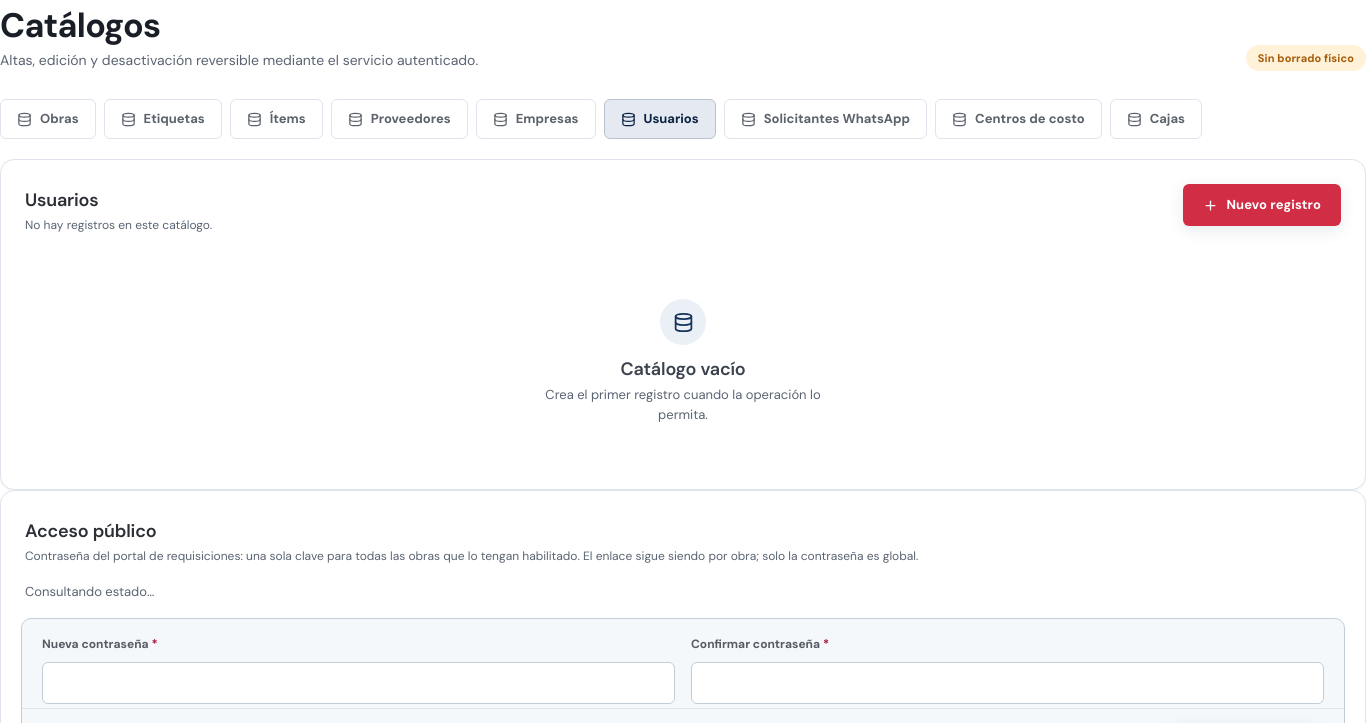
Test: ConnectedCatalogAdmin › RF-004: pestaña de Usuarios › requires selecting at least one role before creating a user
Click the button "Nuevo registro".
click(1262, 206)  # box [1183,184,1341,226]
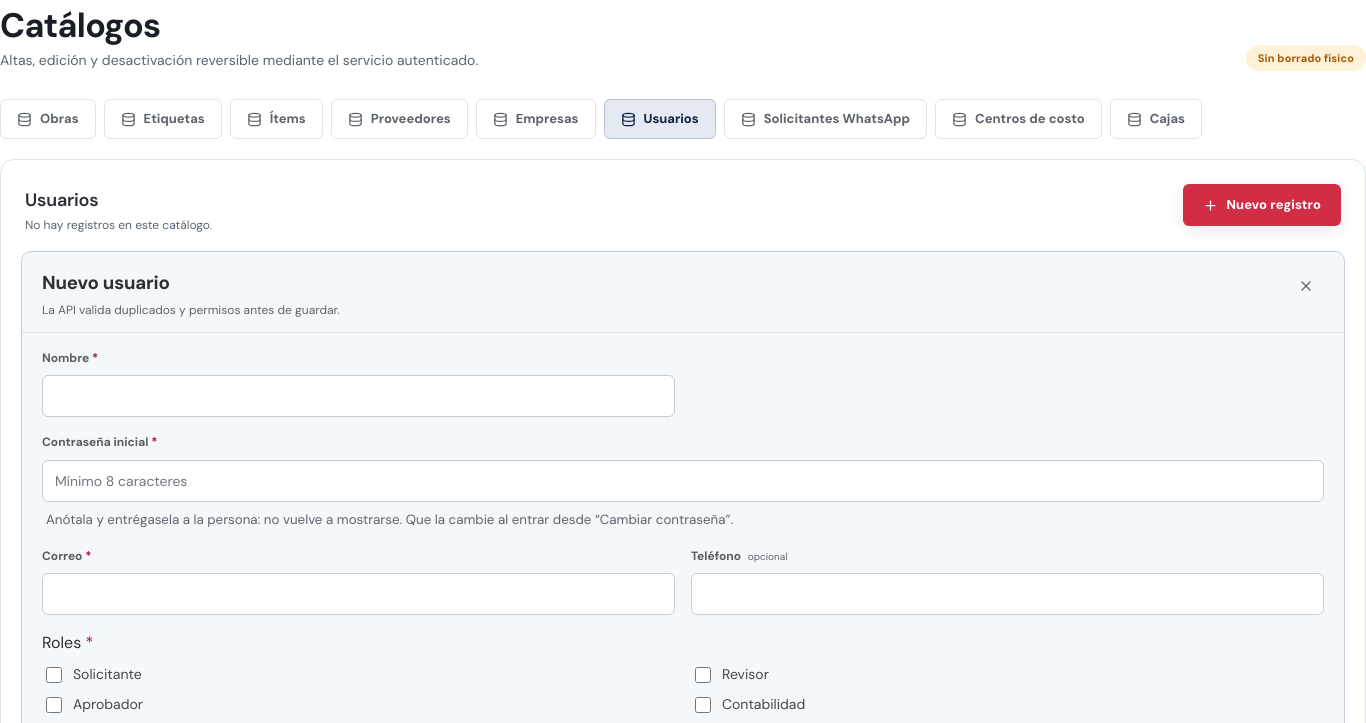
Type "Sin Rol" into the field labelled "Nombre *".
click(358, 396); type("Sin Rol")  # box [42,375,675,417]
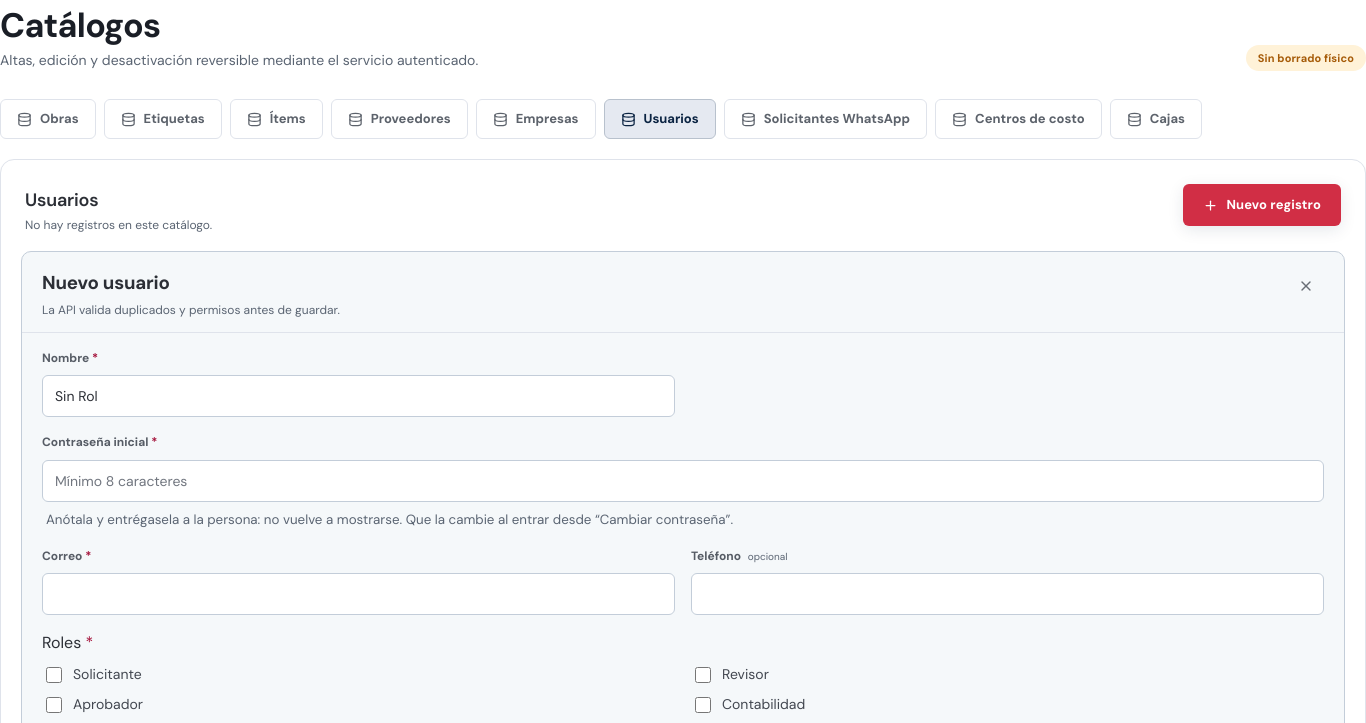
Type "clave-inicial-123" into the field labelled "Contraseña inicial".
click(683, 481); type("clave-inicial-123")  # box [42,460,1324,502]
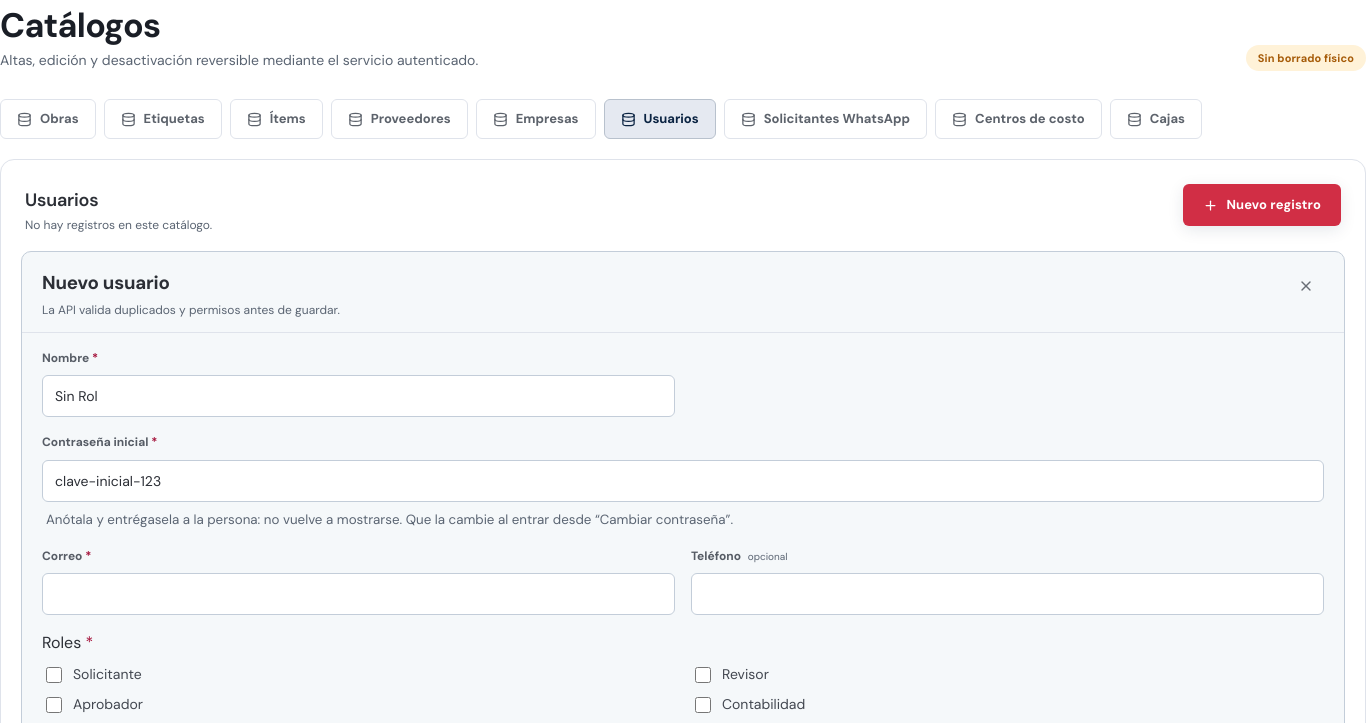
Type "sinrol@mizar.test" into the field labelled "Correo *".
click(358, 594); type("sinrol@mizar.test")  # box [42,573,675,615]
(page scrolled)
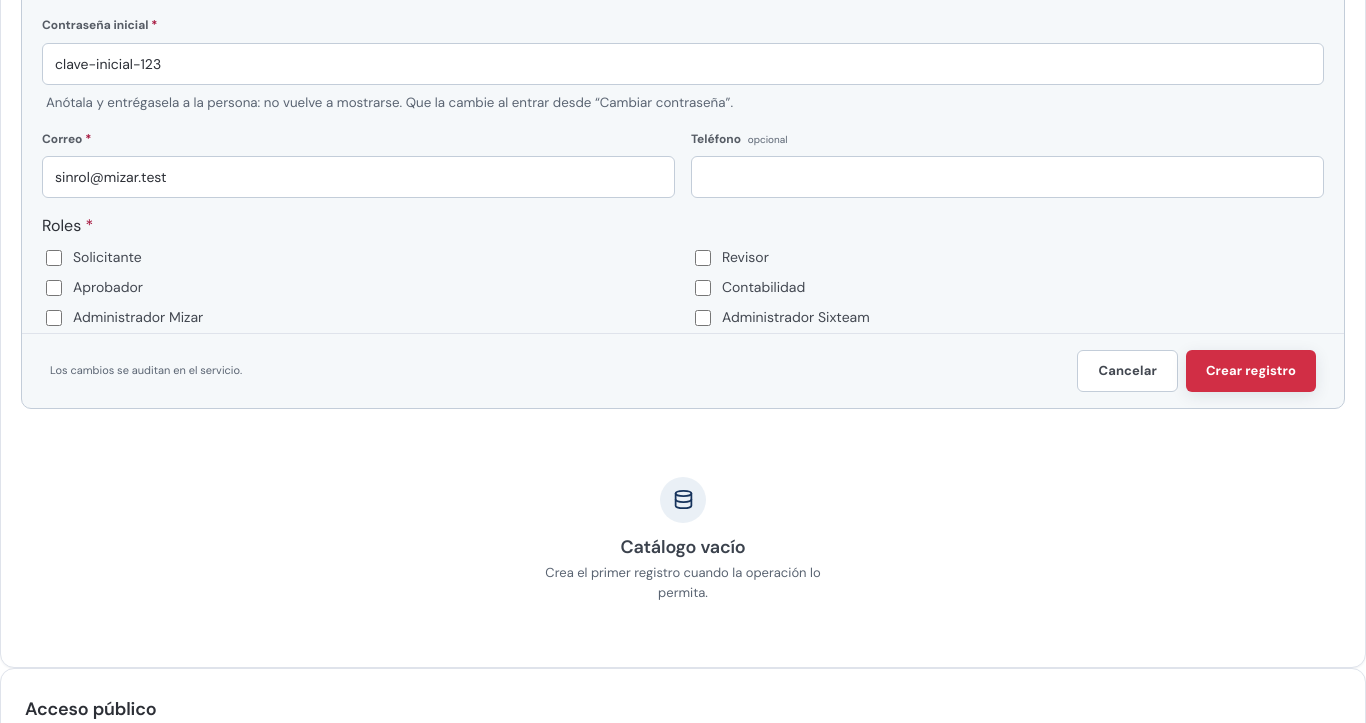
Click the button "Crear registro".
click(1251, 371)  # box [1186,350,1316,392]
(page scrolled)
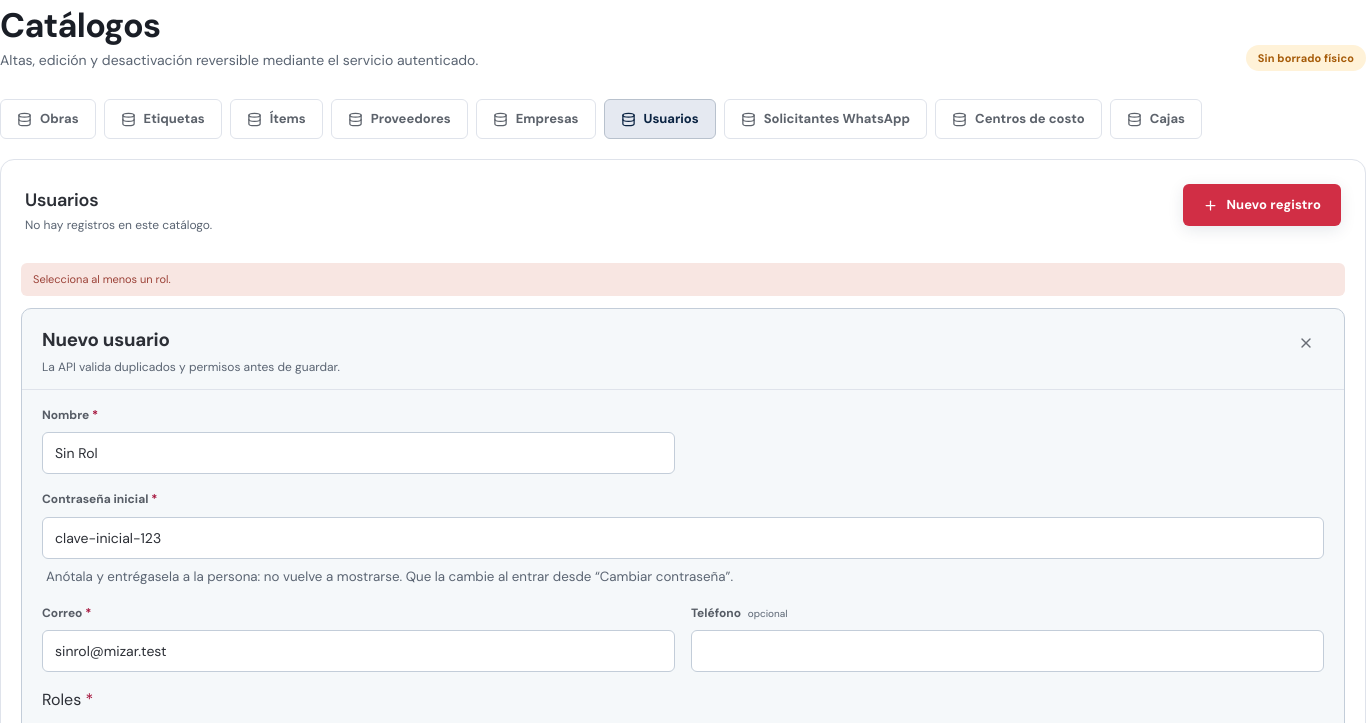
Expected: the message shows "Selecciona al menos un rol", [33,272,171,286]
